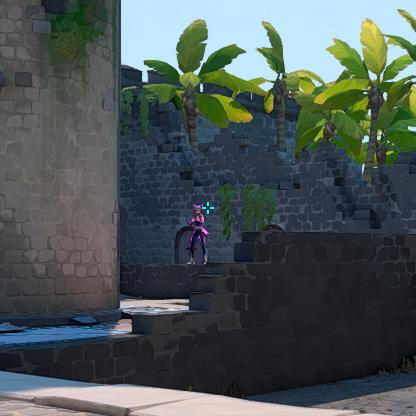enemyBody: (194, 216, 202, 231)
enemyHead: (196, 208, 200, 213)
